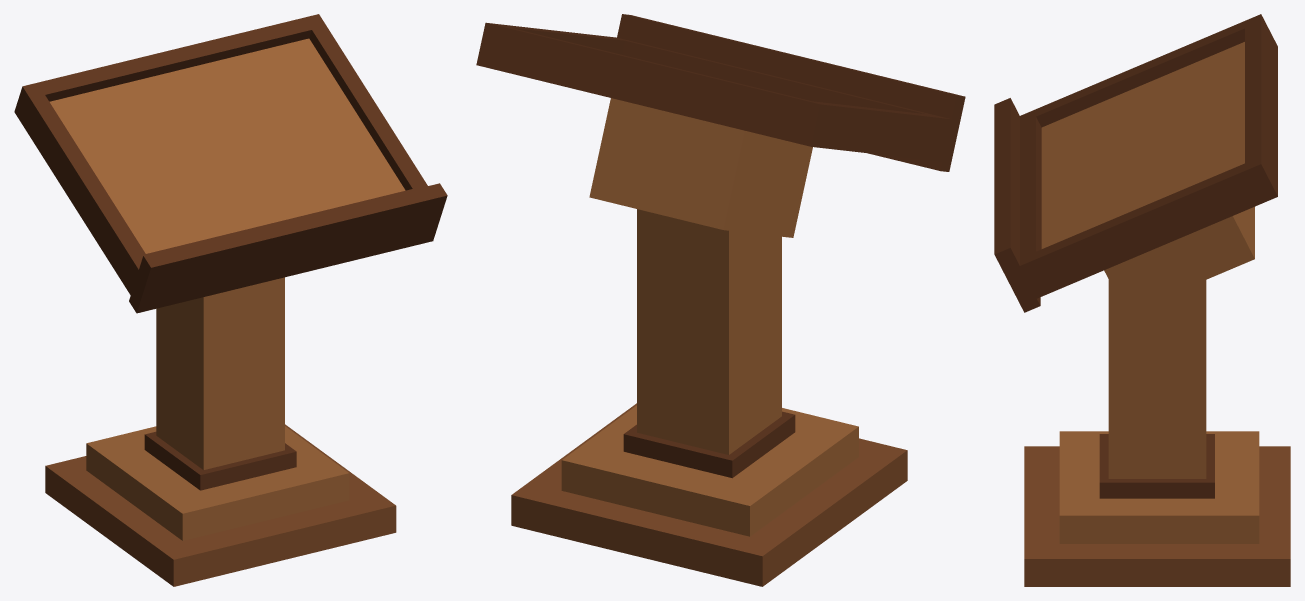
File: Lobby_Lectern.glb
3 renders of one model, left to right at view 1: azimuth 30°, elevation 25°; view 2: azimuth 150°, elevation 25°; view 3: azimuth 270°, elevation 25°, orthographic. The views are drawn at different scales.
Visible parts, largest first — view 1: Top_lWood, Top_lWoodDark, Stand_lWood, Stand_lWoodBase, Stand_lWoodDark; view 2: Stand_lWood, Top_lWoodDark, Stand_lWoodBase, Top_lWood, Stand_lWoodDark; view 3: Stand_lWood, Top_lWood, Top_lWoodDark, Stand_lWoodBase, Stand_lWoodDark.
Part boxes in pixels (x1,y1,x2,y2): Top_lWood: (49, 38, 405, 253); Top_lWoodDark: (14, 14, 447, 313); Stand_lWood: (86, 277, 349, 540); Stand_lWoodBase: (45, 424, 396, 586); Stand_lWoodDark: (144, 431, 296, 490); Stand_lWood: (561, 209, 858, 536); Top_lWoodDark: (476, 14, 965, 171); Stand_lWoodBase: (511, 403, 907, 586); Top_lWood: (589, 98, 812, 237); Stand_lWoodDark: (623, 411, 795, 478); Stand_lWood: (1059, 280, 1259, 543); Top_lWood: (1041, 42, 1254, 313); Top_lWoodDark: (994, 14, 1277, 312); Stand_lWoodBase: (1024, 446, 1290, 586); Stand_lWoodDark: (1099, 434, 1214, 498).
Size of the model in its own units: 0.8 by 1.1 by 0.6673.
